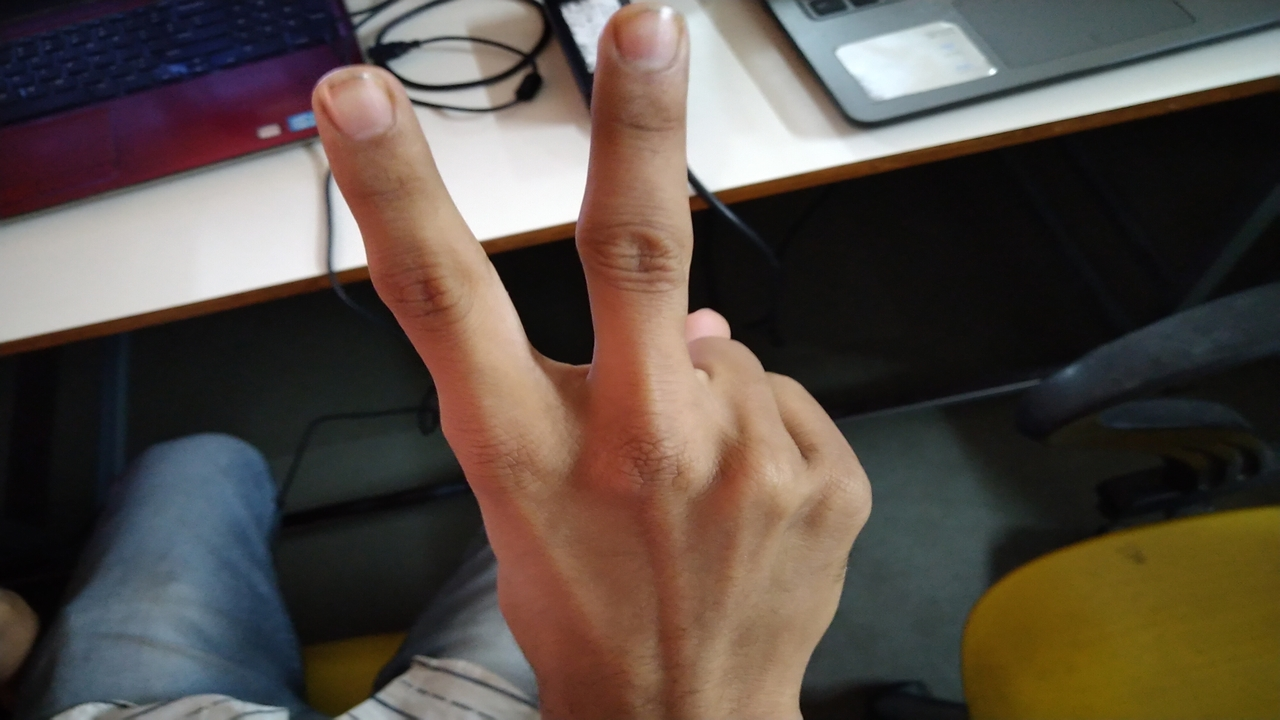fingertip: (301, 65, 413, 141), (591, 1, 697, 76)
